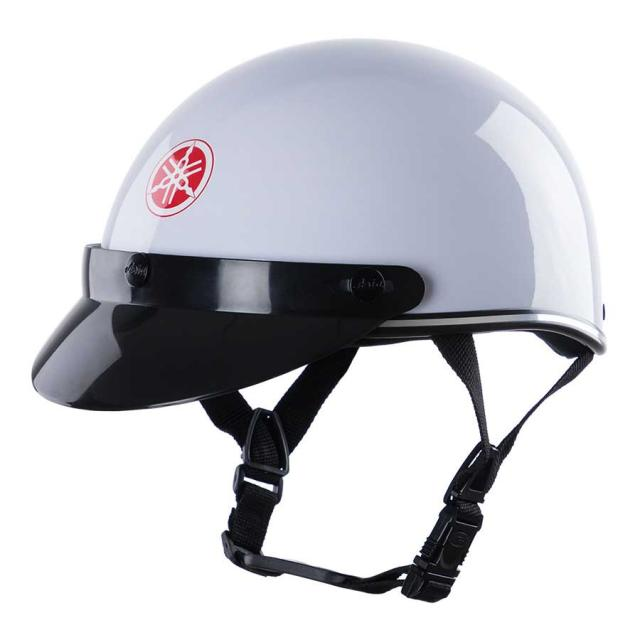Helmet: (28, 35, 609, 414)
